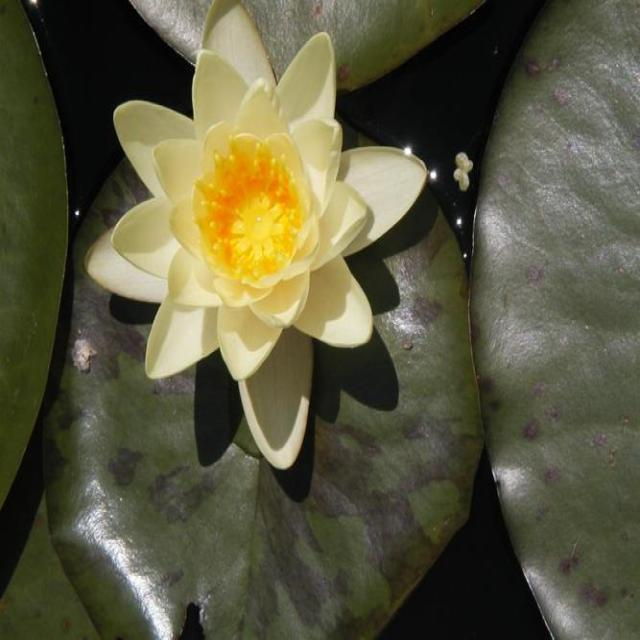rose: (64, 10, 497, 584)
